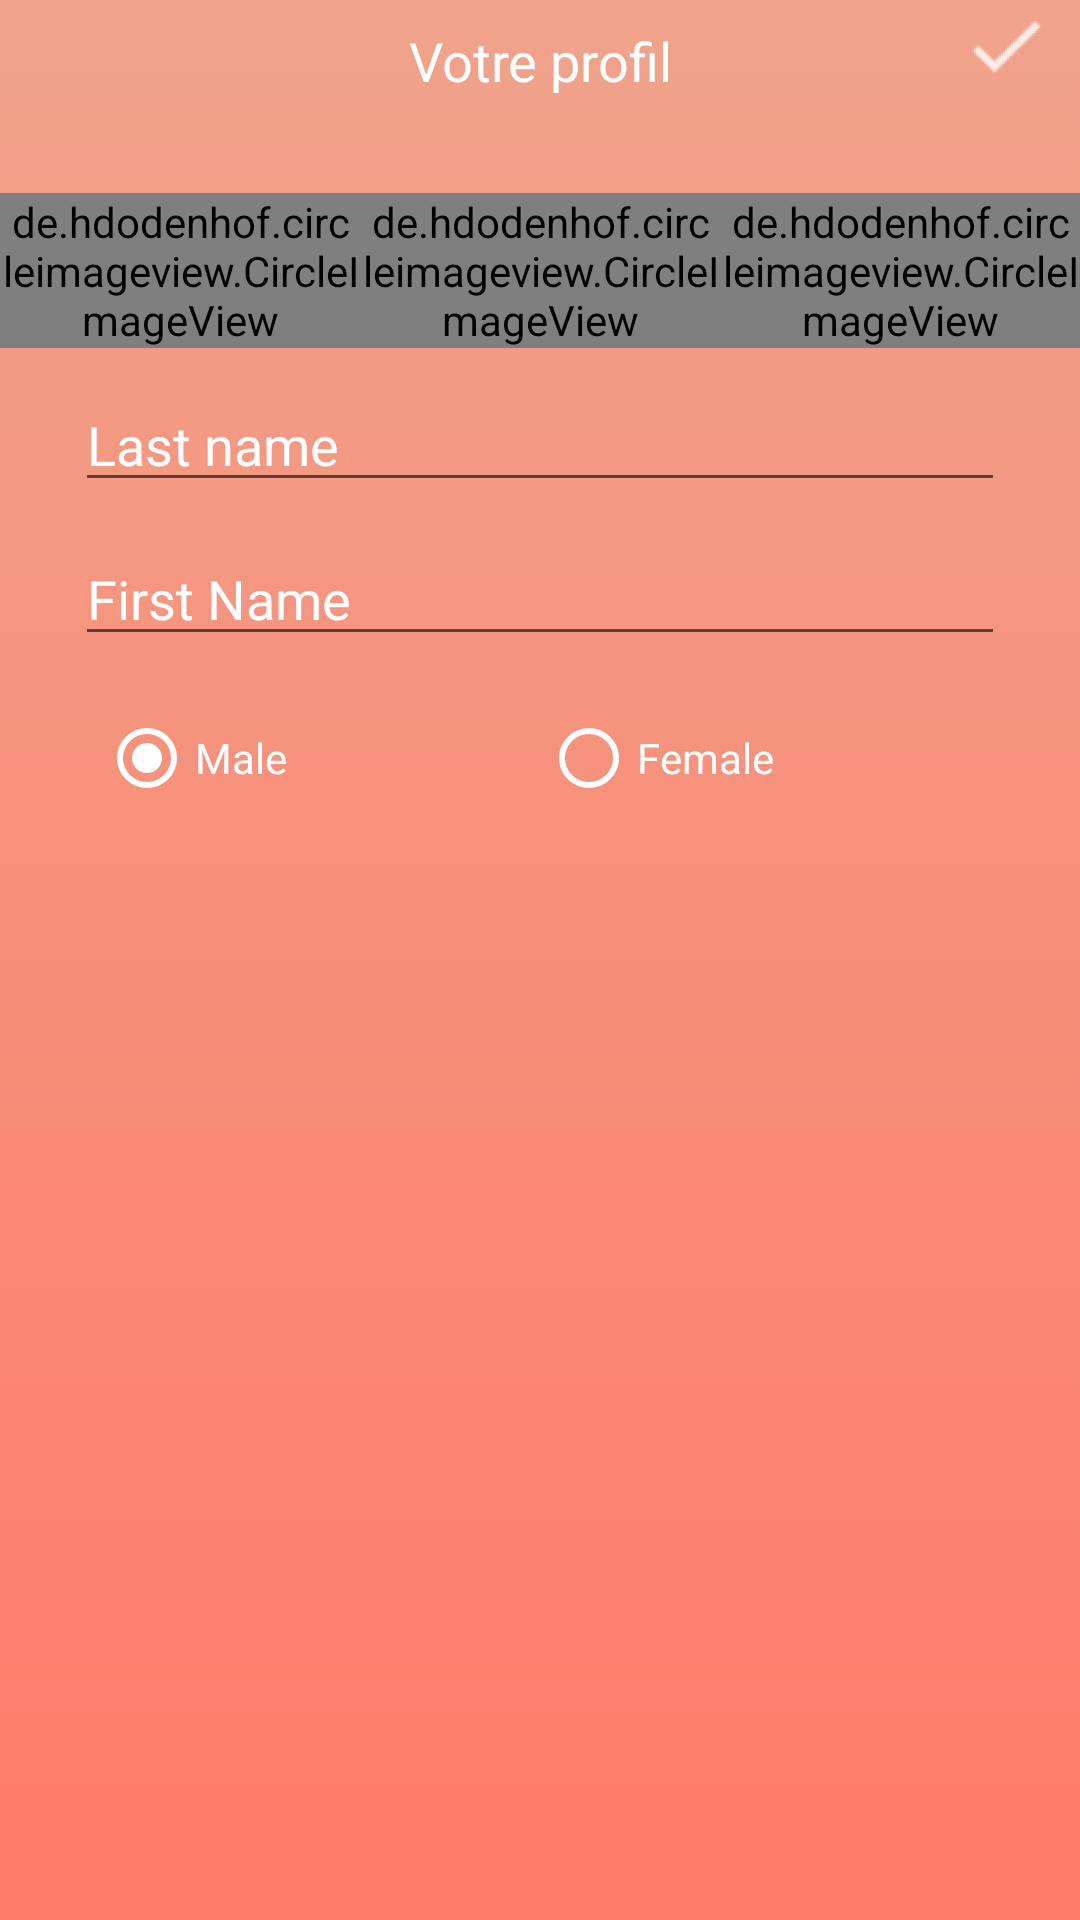

Icon click points for this 1080×1920 phone screenshot, format (x,y):
check: (1007,46)
